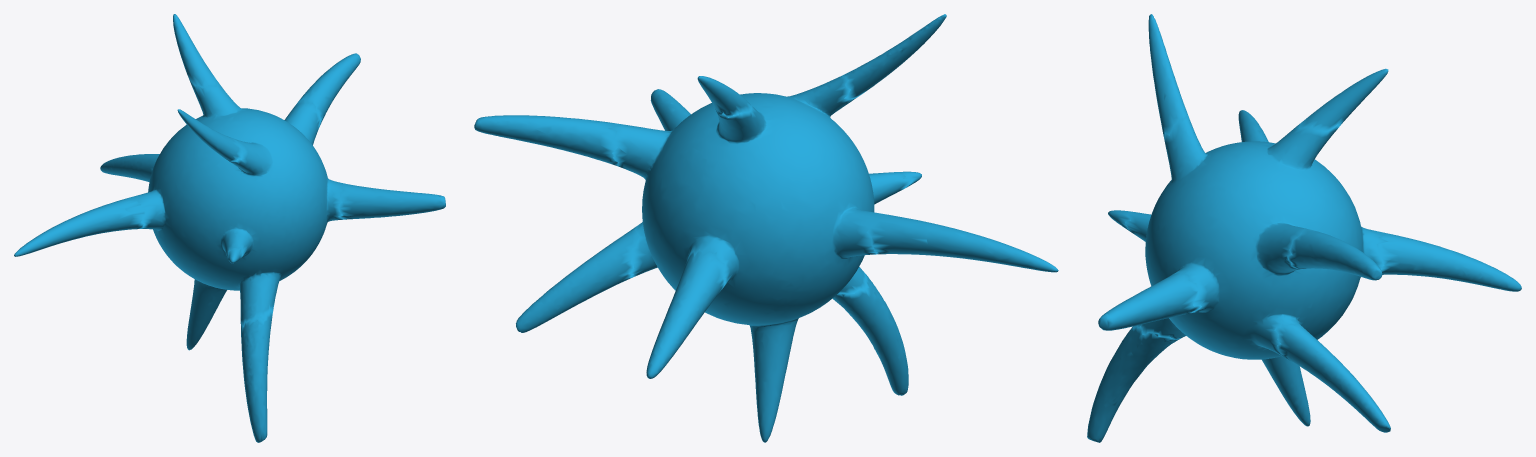
Rendered from v_spike.gltf.
The picture shows the model from 3 angles, left to right: view 1: azimuth 30°, elevation 25°; view 2: azimuth 150°, elevation 25°; view 3: azimuth 270°, elevation 25°; orthographic projection. The views are drawn at different scales.
Parts seen in each view (by area): view 1: Sun; view 2: Sun; view 3: Sun.
Part boxes in pixels (bbox=[...]): Sun: bbox=[14, 14, 445, 442]; Sun: bbox=[474, 14, 1058, 442]; Sun: bbox=[1087, 14, 1521, 442].
Size of the model in its own units: 2.03 by 1.6 by 1.59.
